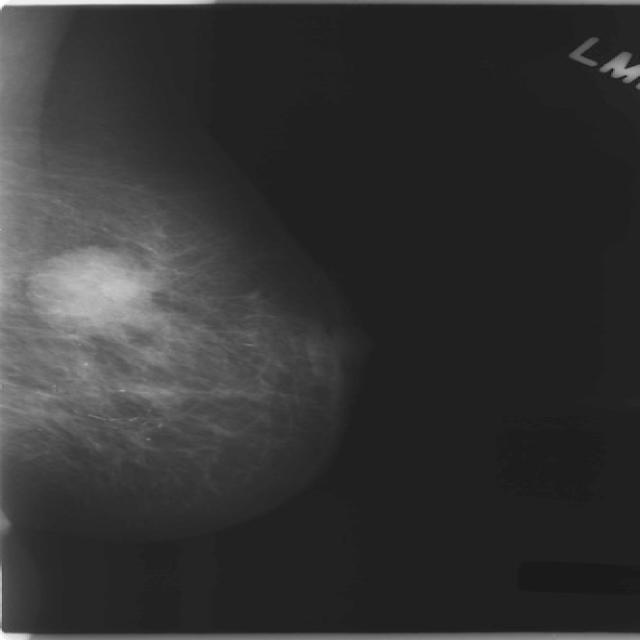tumour: (27, 245, 154, 326)
